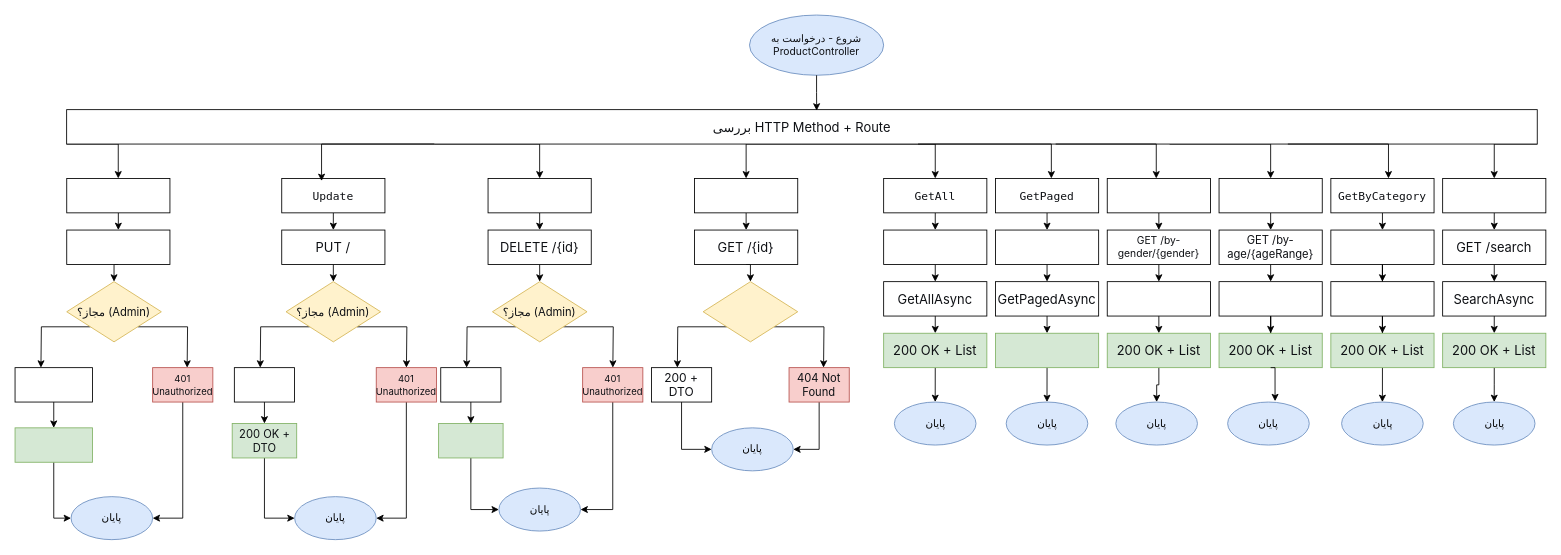
The diagram is 1561 pixels wide and 555 high, and some of its shapes have lost their labels. Each missing label, with the centre of its shape:
"200 OK + Message" belongs at point (470, 440).
"200 OK + Page" belongs at point (1047, 350).
"201 Created + DTO" belongs at point (53, 444).
"Create" belongs at point (118, 195).
"Create ProductAsync" belongs at point (53, 384).
"Delete" belongs at point (539, 195).
"Delete ProductAsync" belongs at point (470, 384).
"Get" belongs at point (746, 195).
"GET /" belongs at point (935, 246).
"GET /category/{id}" belongs at point (1382, 246).
"GET /paged" belongs at point (1047, 246).
"GetByAgeRange" belongs at point (1270, 195).
"GetByAgeRangeAsync" belongs at point (1270, 298).
"GetByCategoryAsync" belongs at point (1382, 298).
"GetByGender" belongs at point (1158, 195).
"GetByGenderAsync" belongs at point (1158, 298).
"POST /" belongs at point (118, 246).
"Search" belongs at point (1494, 195).
"Update ProductAsync" belongs at point (264, 384).
"محصول وجود دارد؟" belongs at point (750, 311).
